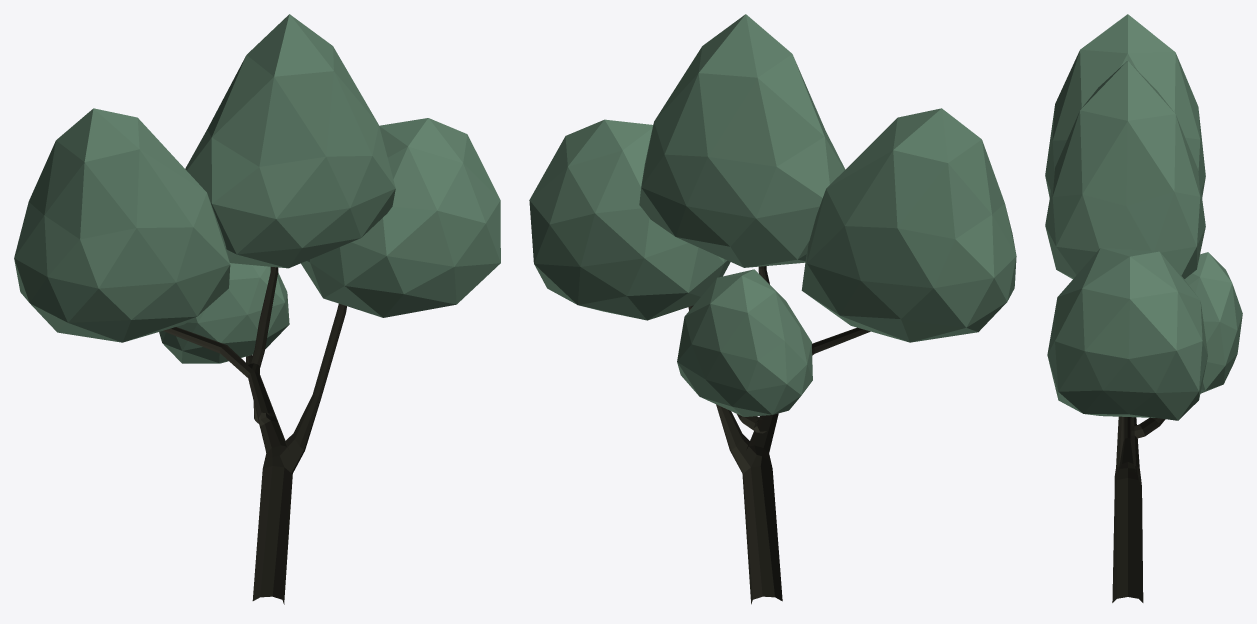
File: Tree2.fbx
The picture shows the model from 3 angles, left to right: view 1: azimuth 30°, elevation 25°; view 2: azimuth 150°, elevation 25°; view 3: azimuth 270°, elevation 25°; orthographic projection. The views are drawn at different scales.
Visible parts, largest first — view 1: Tree2; view 2: Tree2; view 3: Tree2.
Boxes of the visible parts, left/top/right/bottom form: Tree2: left=14, top=14, right=500, bottom=604; Tree2: left=529, top=14, right=1016, bottom=604; Tree2: left=1045, top=14, right=1242, bottom=602.
Bounding box in the file's own units: 122 × 149 × 48.43.
